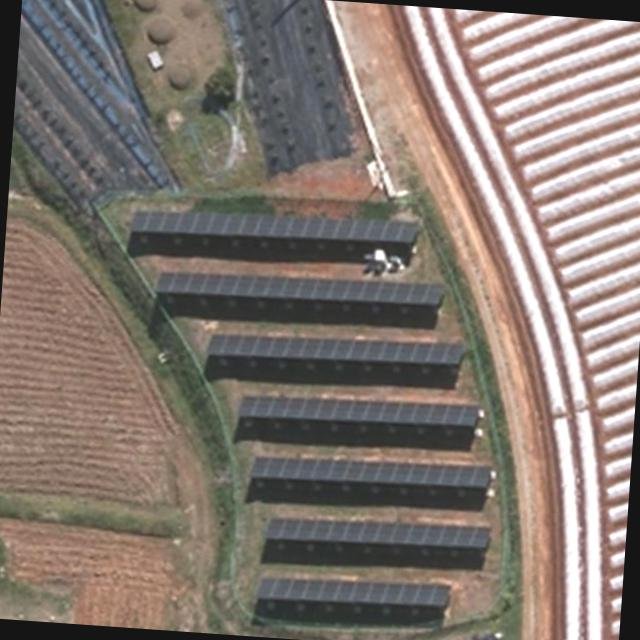solar: (124, 195, 424, 255), (150, 260, 445, 316), (202, 319, 466, 379), (245, 444, 494, 502), (233, 384, 482, 438), (258, 510, 492, 558), (251, 566, 453, 617)
